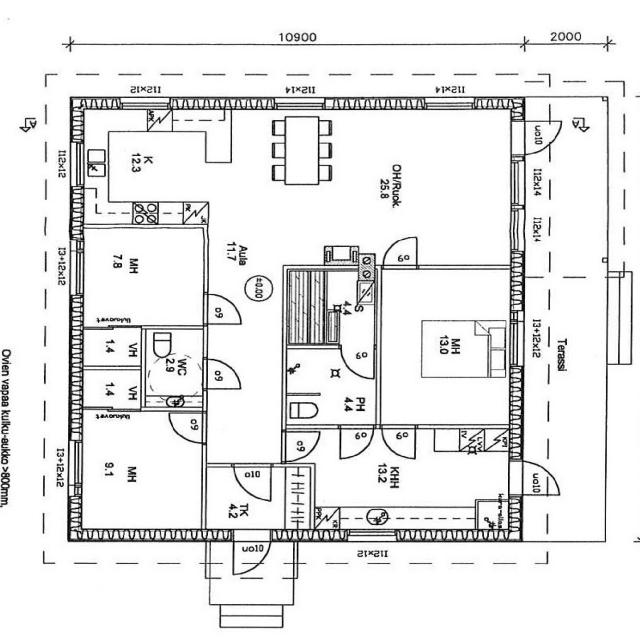door: (510, 461, 562, 495), (510, 120, 562, 154), (233, 528, 270, 573), (234, 463, 271, 499), (202, 294, 241, 324), (281, 432, 321, 461), (202, 359, 240, 389), (340, 424, 373, 458), (341, 344, 374, 378), (169, 414, 207, 443), (382, 424, 414, 458), (384, 236, 416, 269)
